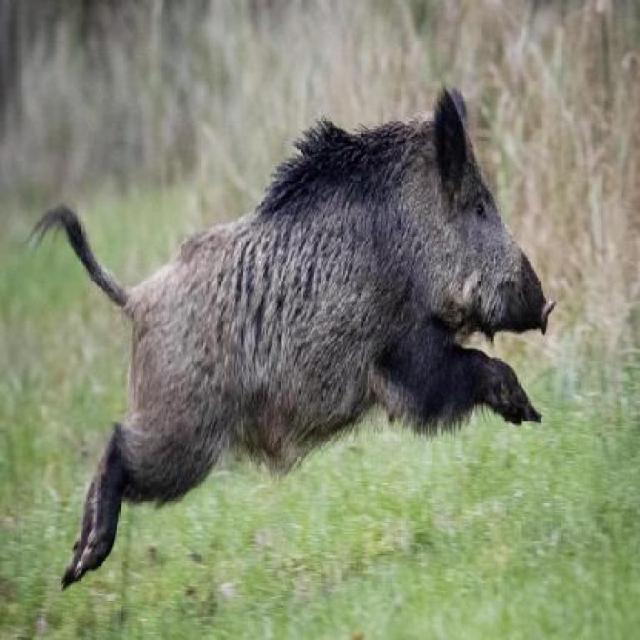wildboar: (20, 79, 562, 593)
